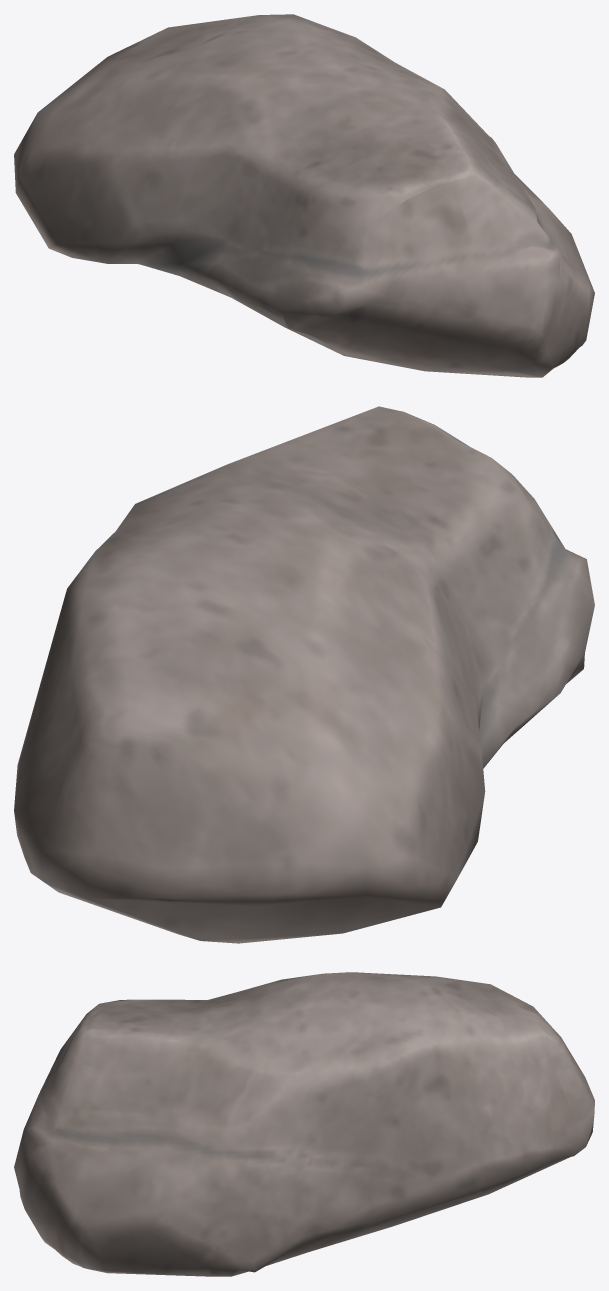
The model's file is PiedraGrande.fbx.
3 views of the same model, one above another, from view 1: azimuth 30°, elevation 25°; view 2: azimuth 150°, elevation 25°; view 3: azimuth 270°, elevation 25° (orthographic). The views are drawn at different scales.
Parts seen in each view (by area): view 1: PiedraGrande; view 2: PiedraGrande; view 3: PiedraGrande.
Part boxes in pixels (x1,y1,x2,y2): PiedraGrande: (14,14,594,377); PiedraGrande: (14,406,594,943); PiedraGrande: (14,972,594,1276).
Size of the model in its own units: 262 by 157 by 374.
